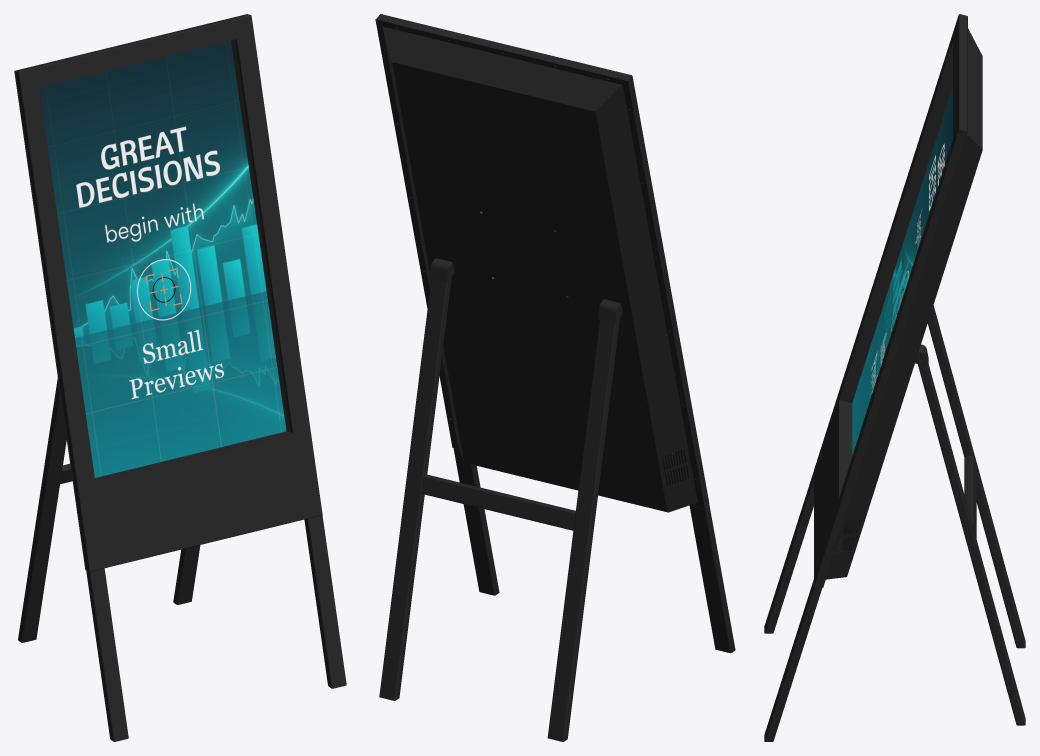
3 renders of one model, left to right at view 1: azimuth 30°, elevation 25°; view 2: azimuth 150°, elevation 25°; view 3: azimuth 270°, elevation 25°, orthographic. The views are drawn at different scales.
Parts seen in each view (by area): view 1: 43 Easel - Assy; view 2: 43 Easel - Assy; view 3: 43 Easel - Assy.
Part boxes in pixels (x1,y1,x2,y2): 43 Easel - Assy: (14, 14, 346, 741); 43 Easel - Assy: (375, 14, 735, 741); 43 Easel - Assy: (764, 14, 1025, 741).
Size of the model in its own units: 0.6154 by 1.51 by 0.5856.
3 materials, 1 textured.
